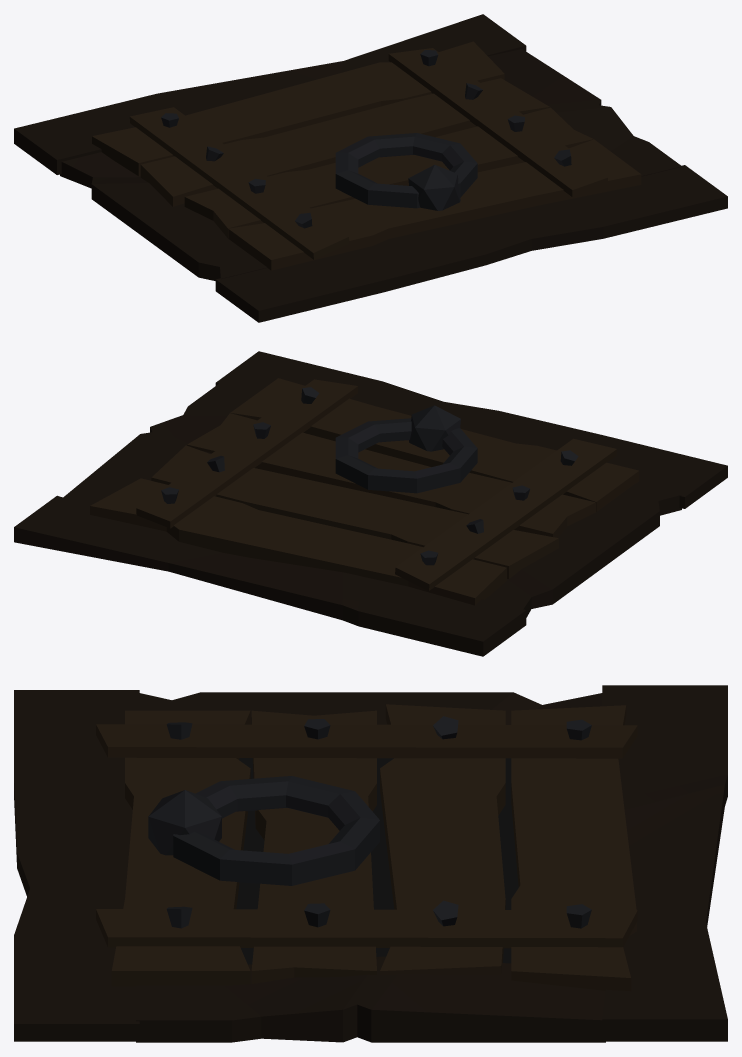
Rendered from Trapdoor.obj.
3 renders of one model, top to bottom at view 1: azimuth 30°, elevation 25°; view 2: azimuth 150°, elevation 25°; view 3: azimuth 270°, elevation 25°, orthographic. The views are drawn at different scales.
Parts seen in each view (by area): view 1: Trapdoor_Cylinder.001; view 2: Trapdoor_Cylinder.001; view 3: Trapdoor_Cylinder.001.
Part boxes in pixels (<box>): Trapdoor_Cylinder.001: <box>14,14,727,322</box>; Trapdoor_Cylinder.001: <box>14,351,727,656</box>; Trapdoor_Cylinder.001: <box>14,685,727,1042</box>.
Bounding box in the file's own units: 1.74 × 0.2151 × 1.57.
